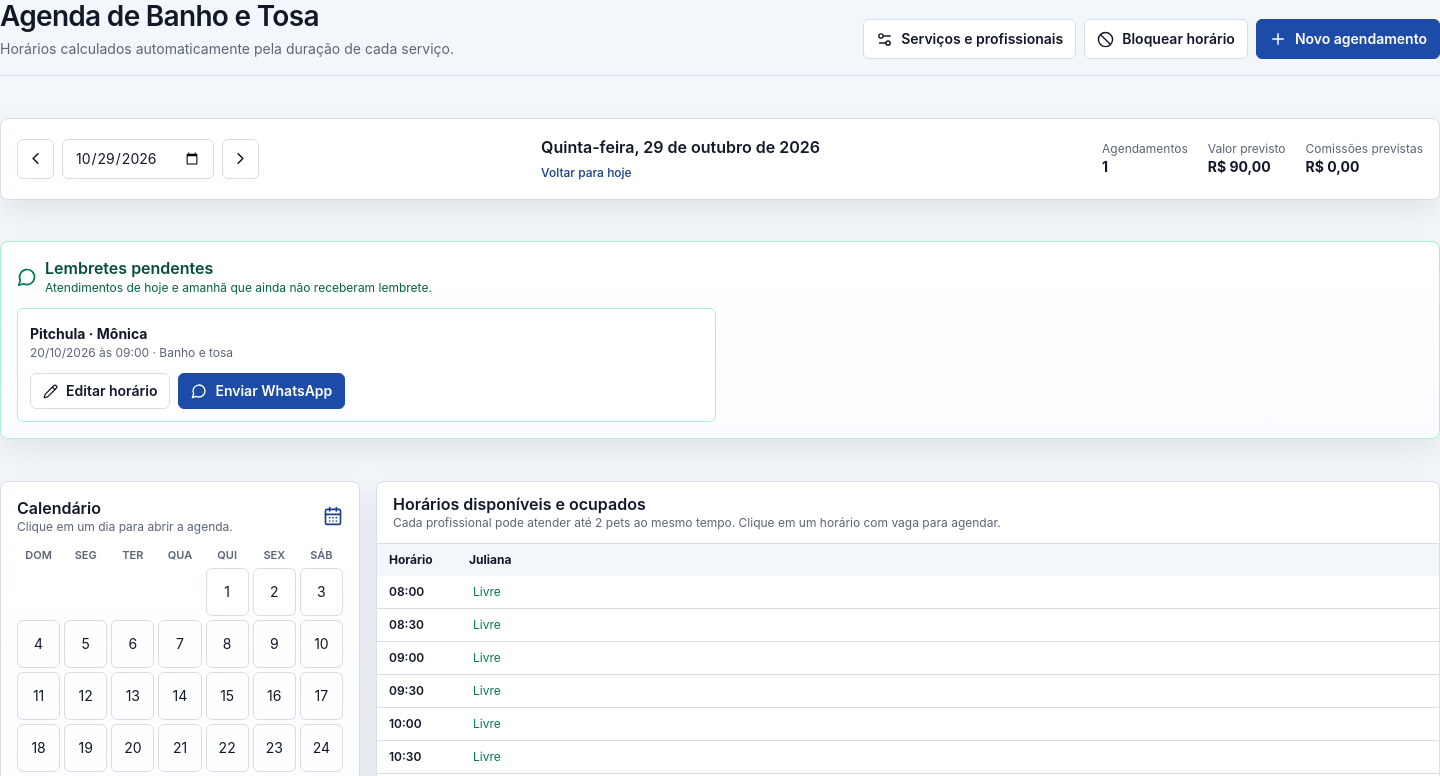
correção do horário na agenda › avisa para reenviar um lembrete que já havia sido enviado
Click the button "Editar horário": (100, 391) [30,373,170,409]
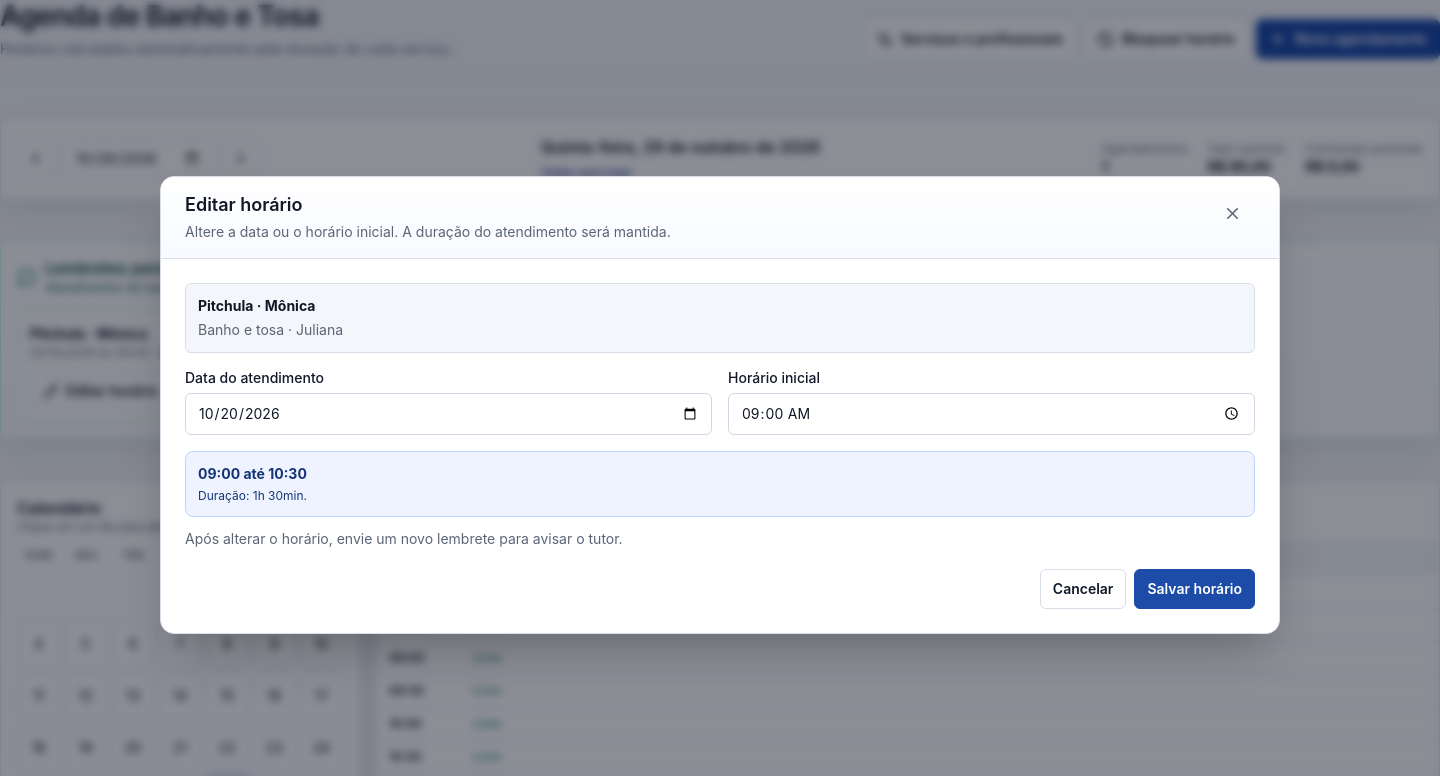
Now the text "Após alterar o horário, envie um novo lembrete para avisar o tutor." is shown, box [185,530,623,547]
